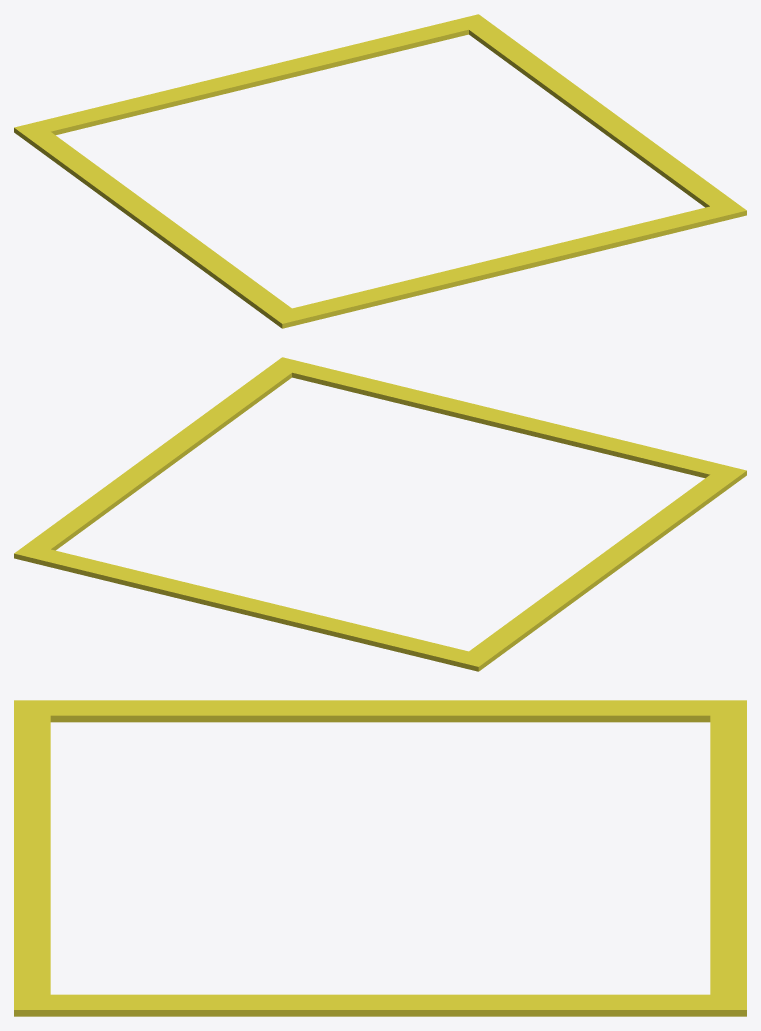
Rendered from stockpile.fbx.
3 views of the same model, one above another, from view 1: azimuth 30°, elevation 25°; view 2: azimuth 150°, elevation 25°; view 3: azimuth 270°, elevation 25° (orthographic). The views are drawn at different scales.
Visible parts, largest first — view 1: Stockpile; view 2: Stockpile; view 3: Stockpile.
Part boxes in pixels (x1=…): Stockpile: x1=14, y1=14, x2=746, y2=328; Stockpile: x1=14, y1=357, x2=746, y2=671; Stockpile: x1=14, y1=700, x2=746, y2=1016.
Size of the model in its own units: 200 by 2 by 200.
